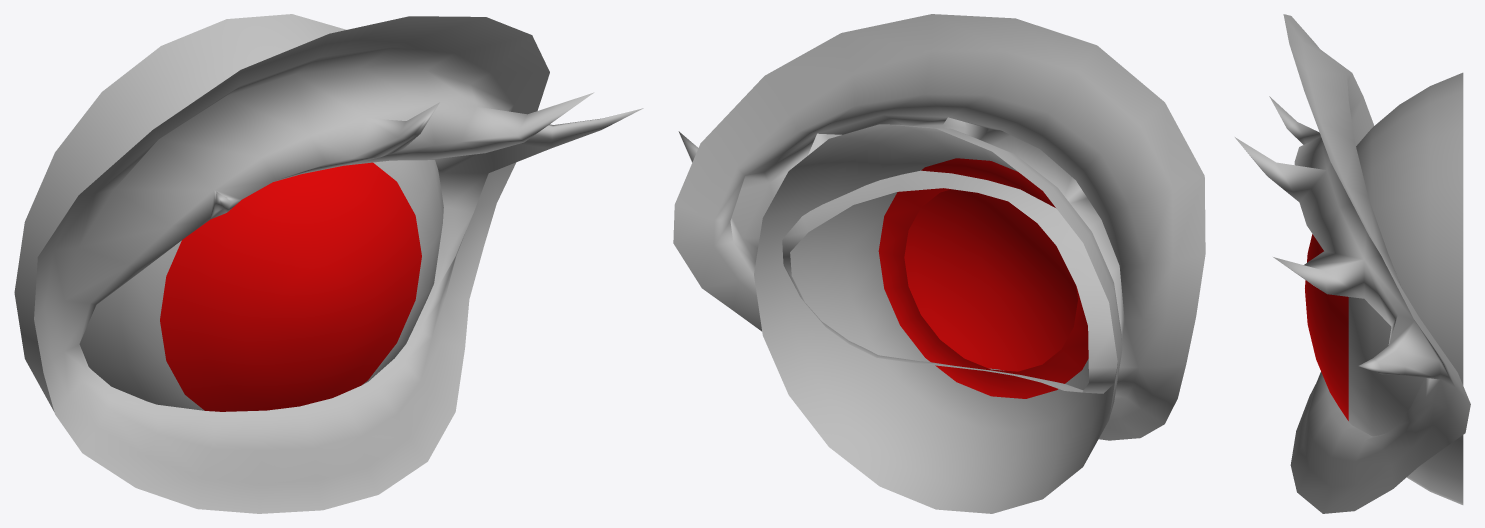
The model's file is anime_eye.fbx.
3 views of the same model, side by side, from view 1: azimuth 30°, elevation 25°; view 2: azimuth 150°, elevation 25°; view 3: azimuth 270°, elevation 25° (orthographic). The views are drawn at different scales.
Visible parts, largest first — view 1: skin_mesh, pupil_mesh, eye_mesh; view 2: skin_mesh, eye_mesh, pupil_mesh; view 3: skin_mesh, eye_mesh, pupil_mesh.
Boxes of the visible parts, <box> form: skin_mesh: <box>34,16,643,513</box>; pupil_mesh: <box>160,162,421,411</box>; eye_mesh: <box>14,14,443,411</box>; skin_mesh: <box>673,14,1205,440</box>; eye_mesh: <box>754,124,1122,513</box>; pupil_mesh: <box>904,189,1077,371</box>; skin_mesh: <box>1235,14,1470,513</box>; eye_mesh: <box>1348,72,1463,504</box>; pupil_mesh: <box>1305,234,1348,420</box>.
Bounding box in the file's own units: 125 × 98.12 × 47.33.
